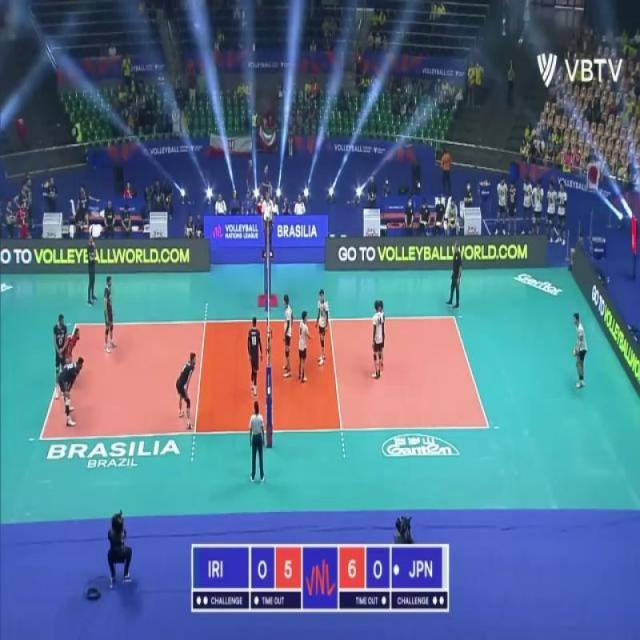volleyball: (572, 347, 578, 358)
